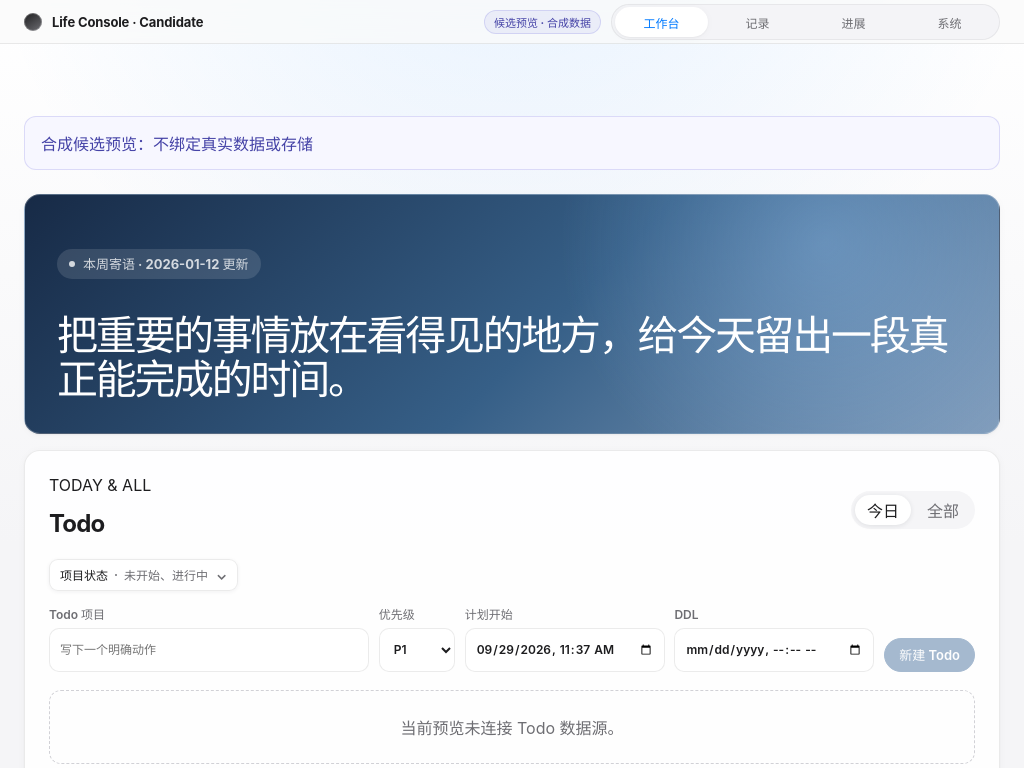
it: Life Console candidate preview › shows the synthetic read-only identity across all four pages
Check: the text "Life Console · Candidate" is shown, box [52,14,203,30]
Check: the text "候选预览 · 合成数据" is shown, box [484,10,601,34]
Click the button "记录" at {"x": 757, "y": 22}, box [711,7,804,37]
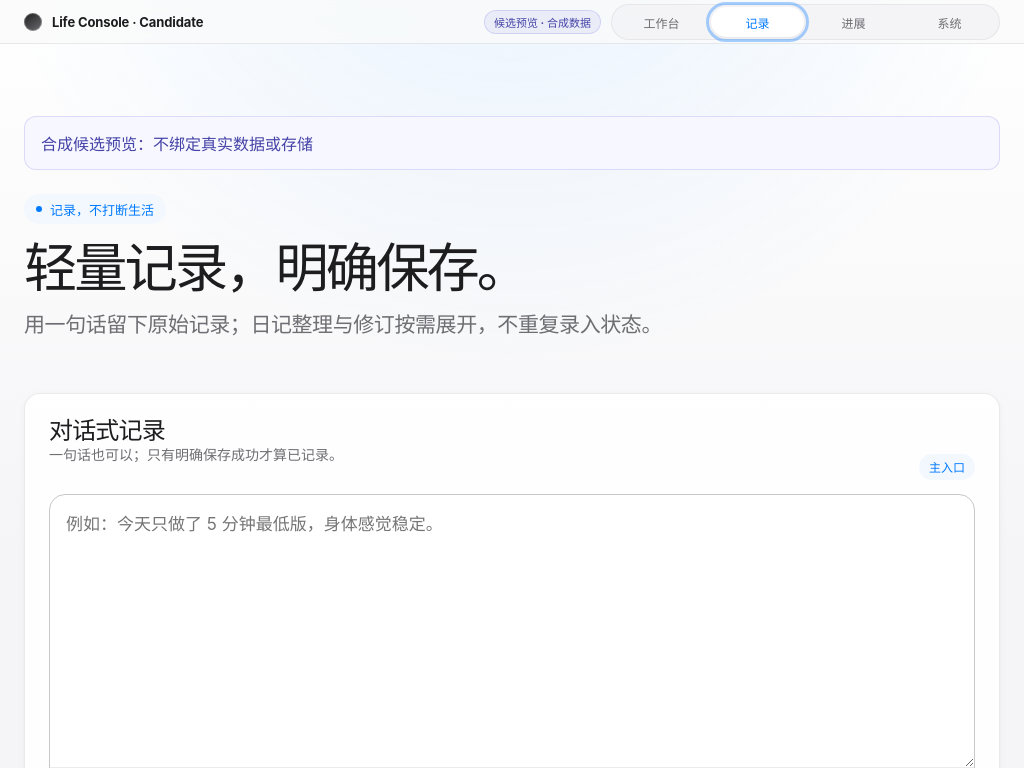
Check: the heading "轻量记录，明确保存。" is shown, box [24,235,527,300]
Click the button "进展" at {"x": 854, "y": 22}, box [807,7,900,37]
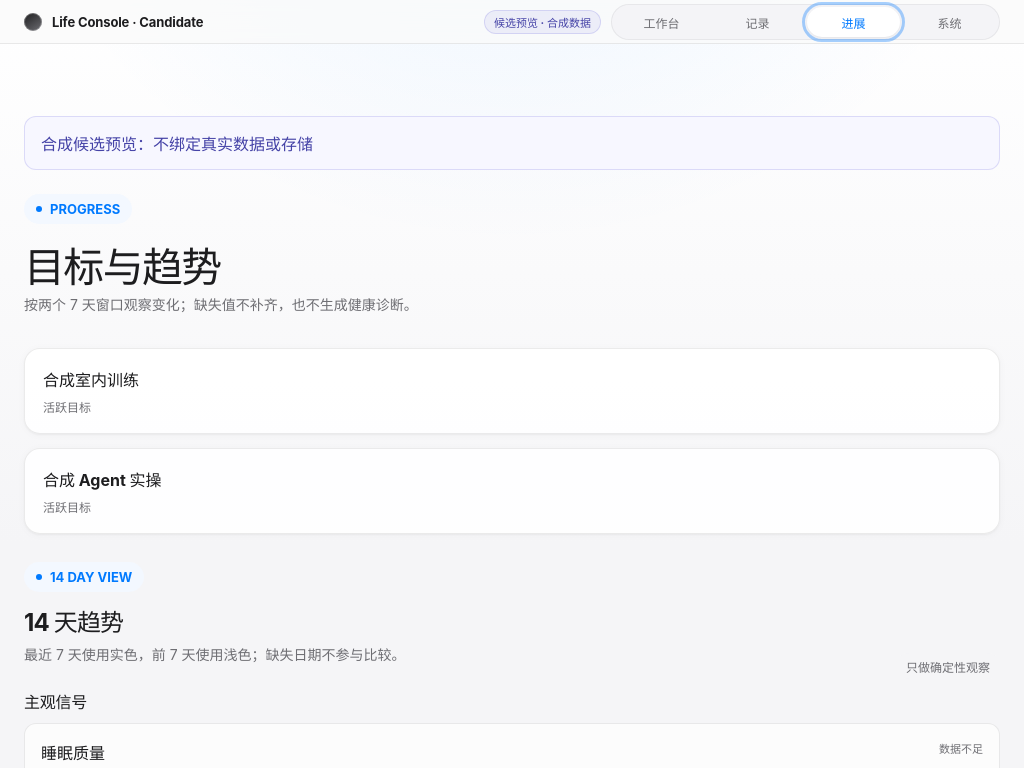
Check: the heading "目标与趋势" is shown, box [24,242,221,292]
Click the button "系统" at {"x": 950, "y": 22}, box [903,7,996,37]
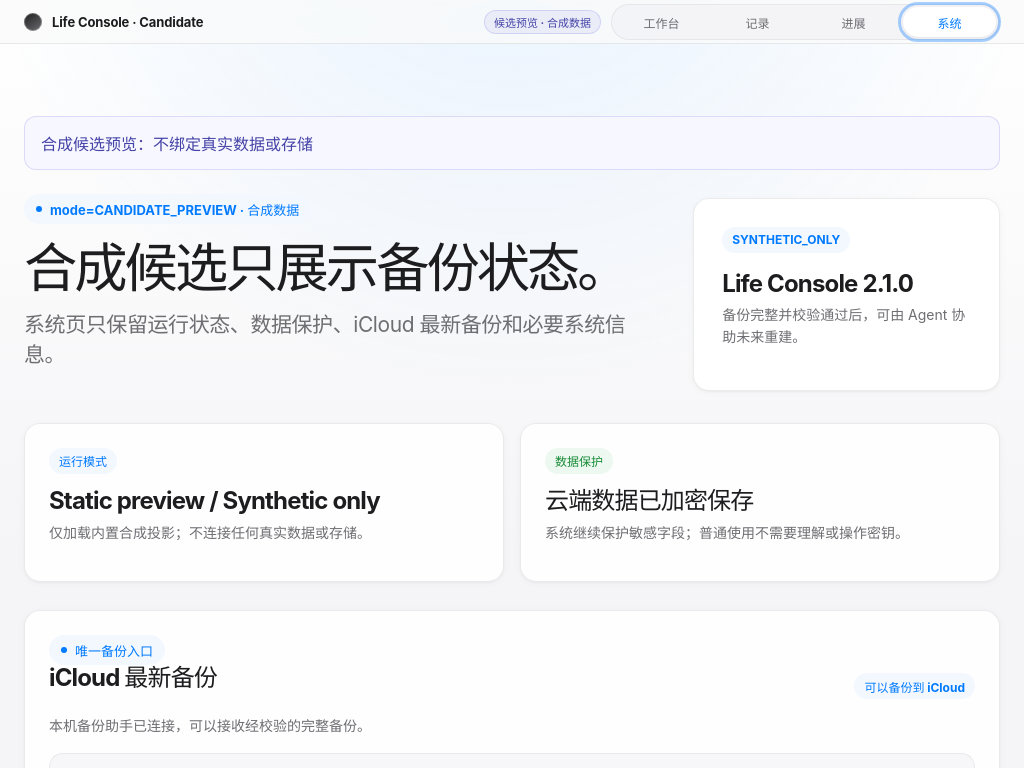
Check: the text "mode=CANDIDATE_PREVIEW · 合成数据" is shown, box [24,194,311,224]
